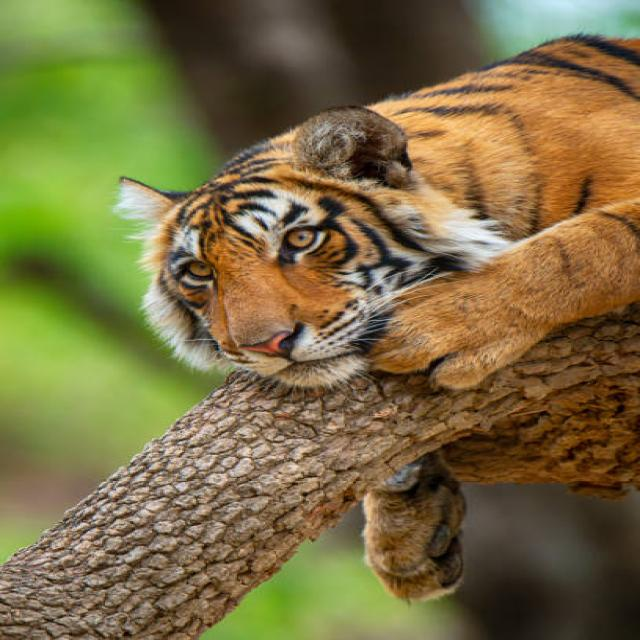not_pig: (111, 30, 638, 602)
